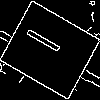I: (25, 25, 70, 60)
